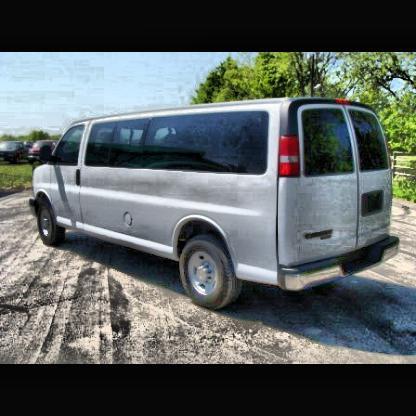Chevrolet Express Van 2007: (31, 101, 402, 309)
